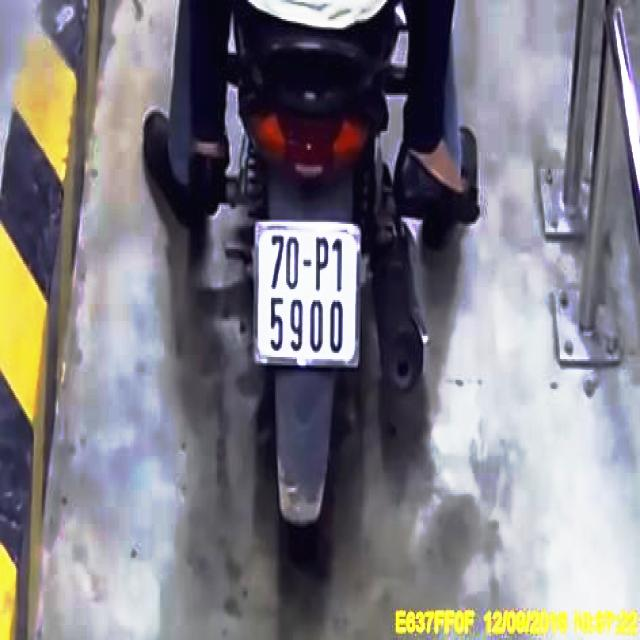license_plate: (260, 223, 356, 364)
